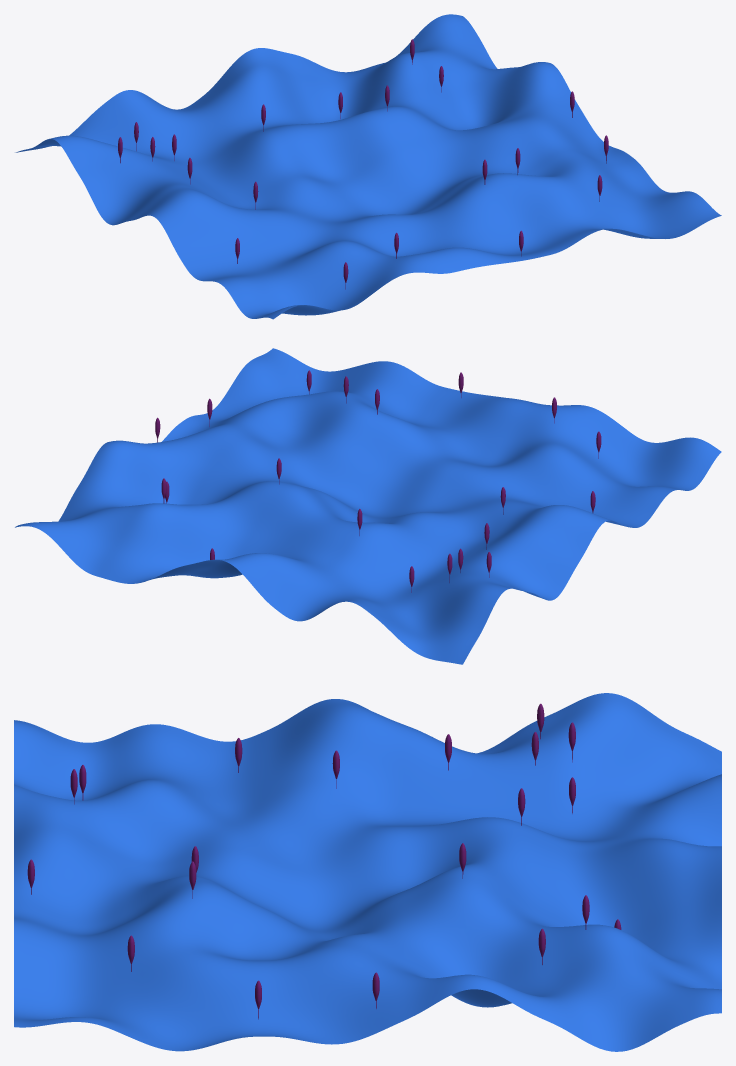
File: Landscape_v4.fbx
3 renders of one model, top to bottom at view 1: azimuth 30°, elevation 25°; view 2: azimuth 150°, elevation 25°; view 3: azimuth 270°, elevation 25°, orthographic. The views are drawn at different scales.
Visible parts, largest first — view 1: Landscape.001; view 2: Landscape.001; view 3: Landscape.001.
Part boxes in pixels (x1,y1,x2,y2): Landscape.001: (15,14,721,319); Landscape.001: (15,348,721,664); Landscape.001: (14,693,721,1051).
Bounding box in the file's own units: 200 × 35.53 × 200.
